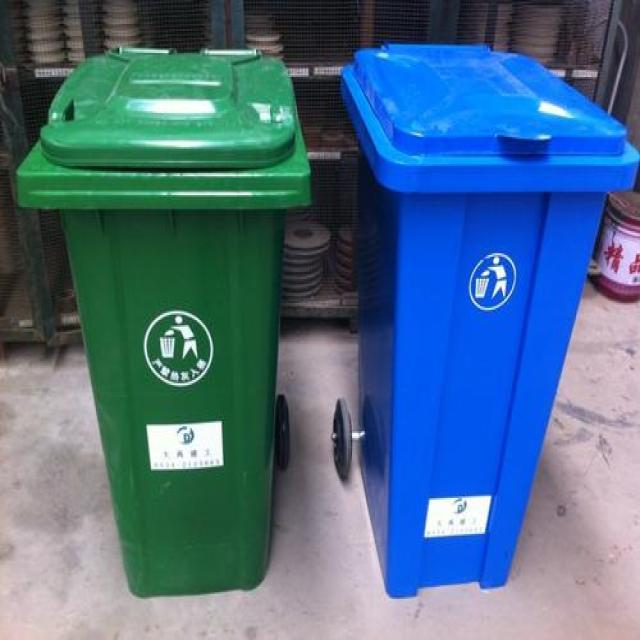garbage_bin: (339, 40, 636, 598), (13, 46, 310, 597)
